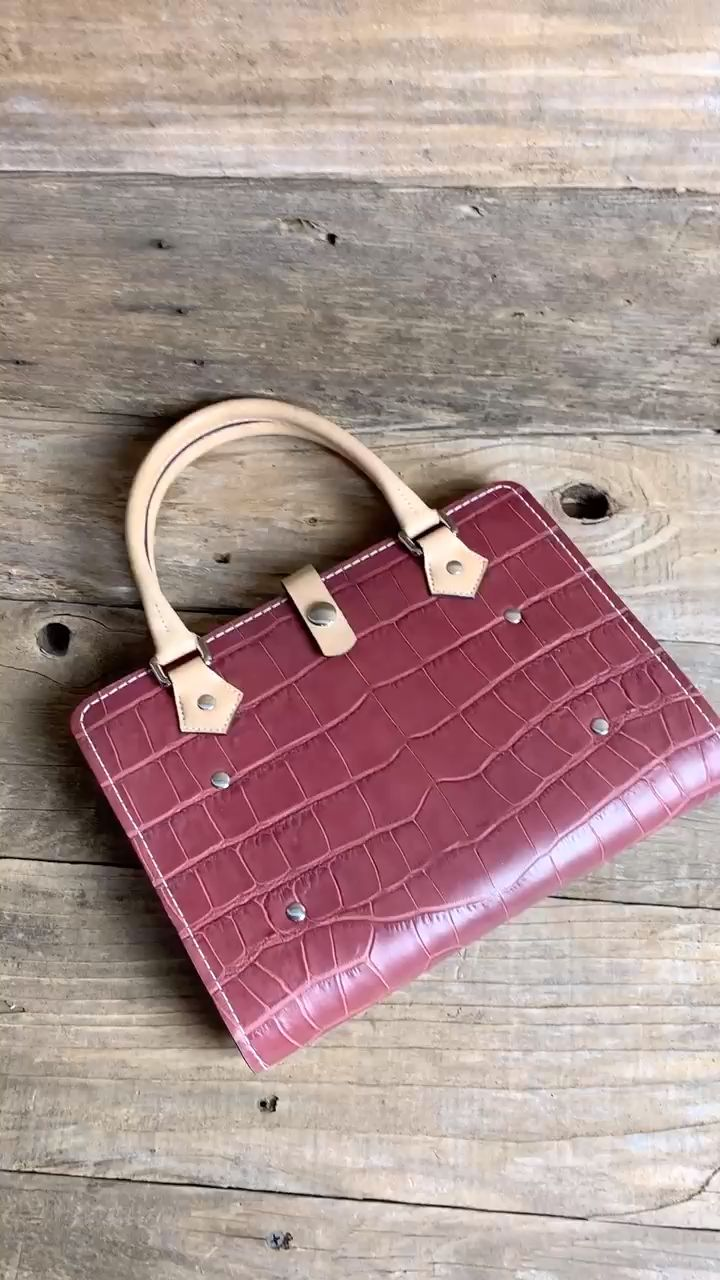cuero: (73, 485, 720, 1072)
